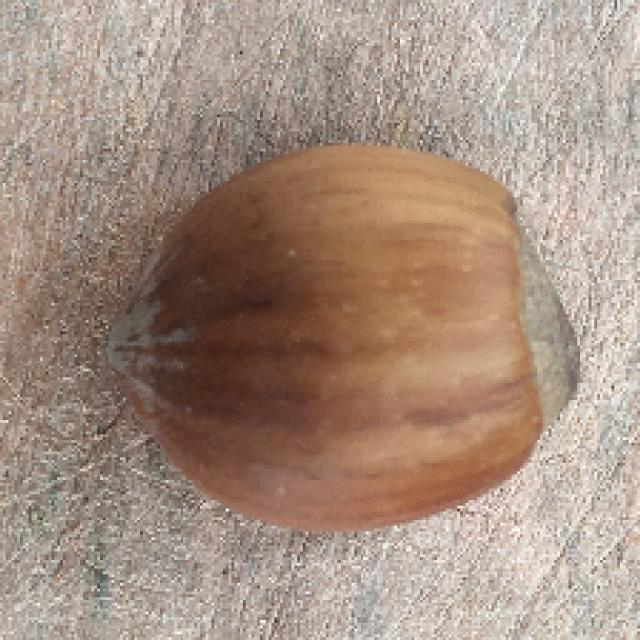damagedHazelnut: (123, 128, 593, 535)
